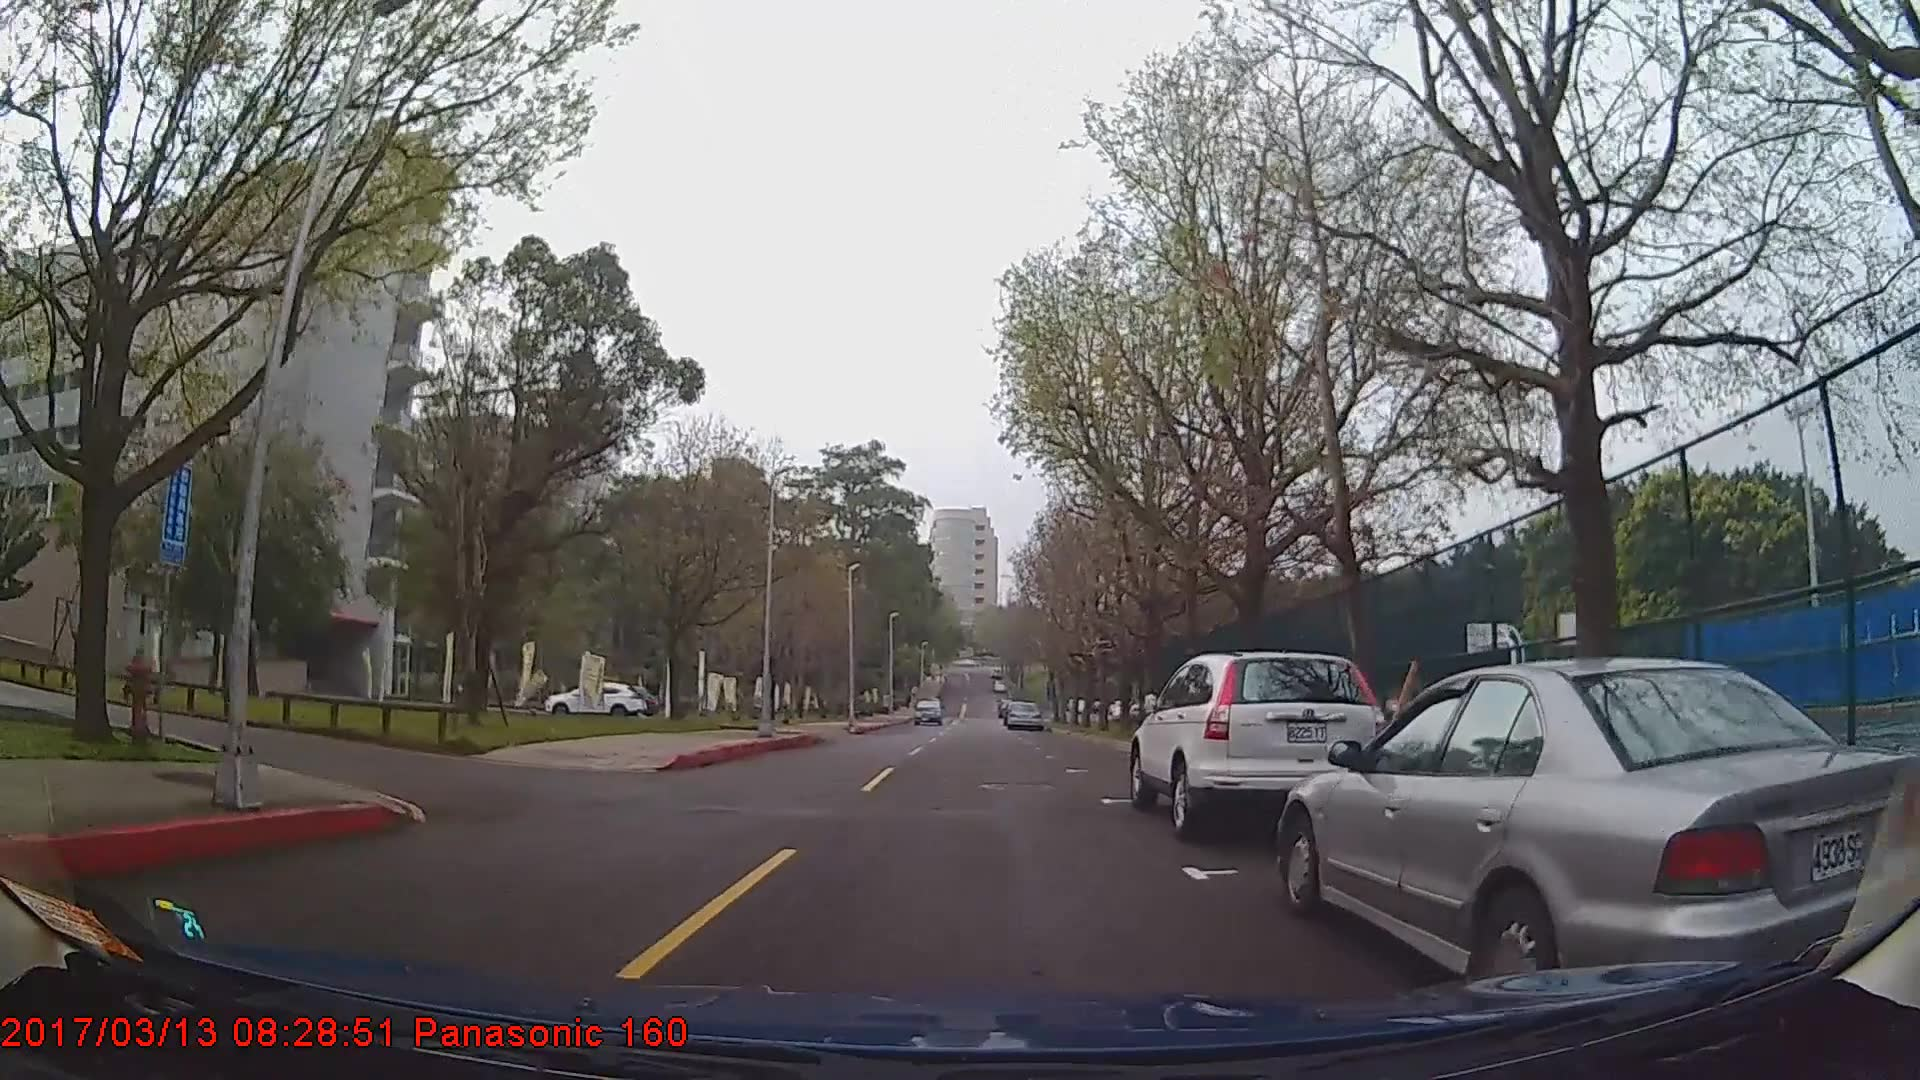vehicle: (1274, 655, 1920, 1025), (1129, 651, 1385, 839), (545, 678, 647, 717), (1004, 698, 1040, 729), (911, 694, 943, 724)
